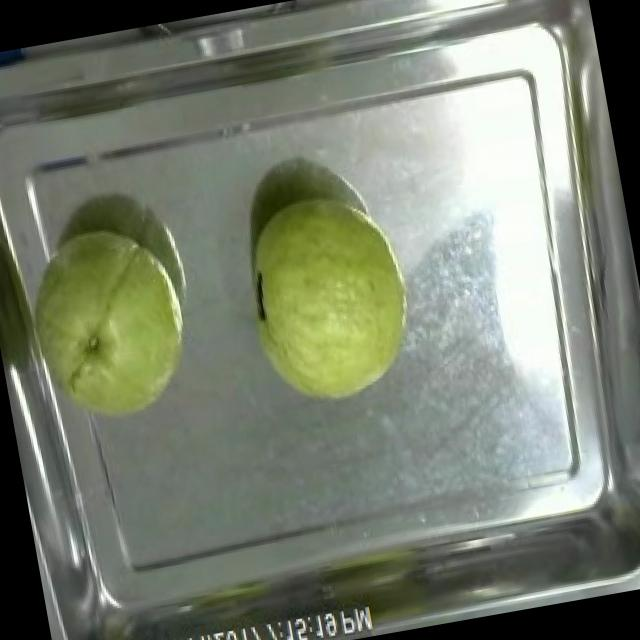Fruit: (3, 207, 212, 450), (227, 176, 430, 420)
